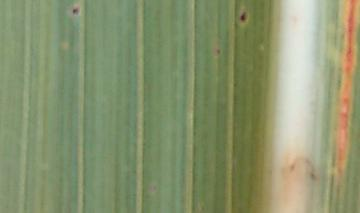tarspot: (239, 12, 248, 24), (72, 7, 81, 16), (215, 48, 222, 55)
